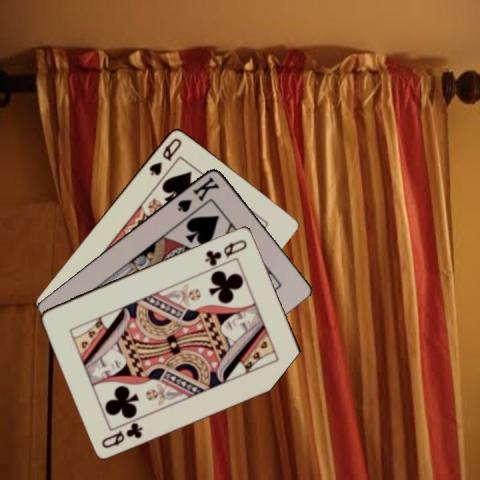Ks: (174, 173, 221, 214)
Qc: (201, 236, 249, 266), (99, 419, 144, 449)
Qs: (146, 134, 183, 177)
